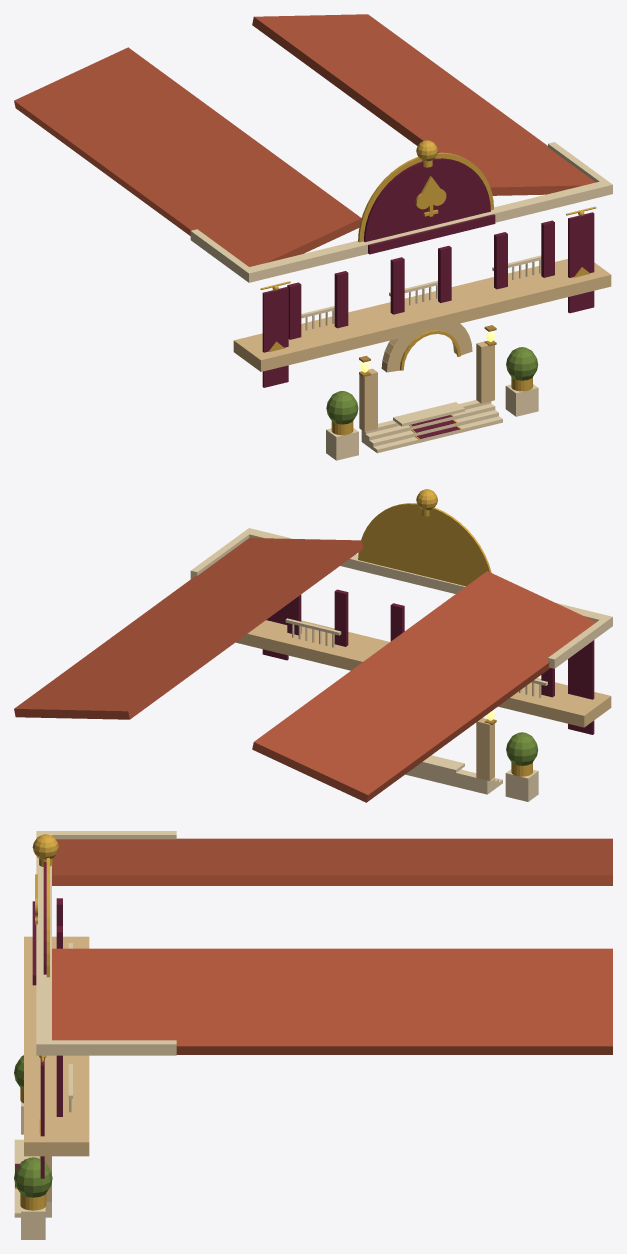
Rendered from nervix_openpoker_facade.glb.
3 views of the same model, one above another, from view 1: azimuth 30°, elevation 25°; view 2: azimuth 150°, elevation 25°; view 3: azimuth 270°, elevation 25° (orthographic). The views are drawn at different scales.
Parts seen in each view (by area): view 1: nervix_openpoker_facade__oc_terracotta, nervix_openpoker_facade__oc_limestone_honey, nervix_openpoker_facade__oc_limestone_pale, fac_pediment_plum, nervix_openpoker_facade__oc_gold, fac_banner, fac_banner.001, nervix_openpoker_facade__oc_olive_leaf, fac_sign_board, fac_curtain.002, fac_curtain.001, fac_curtain (+3 smaller); view 2: nervix_openpoker_facade__oc_terracotta, nervix_openpoker_facade__oc_gold, nervix_openpoker_facade__oc_limestone_honey, nervix_openpoker_facade__oc_limestone_pale, fac_banner, nervix_openpoker_facade__oc_olive_leaf, fac_curtain.004, fac_curtain.003, fac_curtain.005; view 3: nervix_openpoker_facade__oc_terracotta, nervix_openpoker_facade__oc_limestone_honey, nervix_openpoker_facade__oc_limestone_pale, nervix_openpoker_facade__oc_gold, nervix_openpoker_facade__oc_olive_leaf.
Boxes of the visible parts, <box> form: nervix_openpoker_facade__oc_terracotta: <box>14,14,595,266</box>; nervix_openpoker_facade__oc_limestone_honey: <box>233,259,611,431</box>; nervix_openpoker_facade__oc_limestone_pale: <box>190,142,612,460</box>; fac_pediment_plum: <box>364,158,490,242</box>; nervix_openpoker_facade__oc_gold: <box>260,140,596,435</box>; fac_banner: <box>262,287,288,387</box>; fac_banner.001: <box>568,212,594,313</box>; nervix_openpoker_facade__oc_olive_leaf: <box>326,347,538,424</box>; fac_sign_board: <box>368,214,495,254</box>; fac_curtain.002: <box>390,257,404,314</box>; fac_curtain.001: <box>334,271,348,328</box>; fac_curtain: <box>287,282,301,339</box>; nervix_openpoker_facade__oc_terracotta: <box>14,538,596,802</box>; nervix_openpoker_facade__oc_gold: <box>358,489,532,776</box>; nervix_openpoker_facade__oc_limestone_honey: <box>235,620,611,780</box>; nervix_openpoker_facade__oc_limestone_pale: <box>190,528,612,801</box>; fac_banner: <box>568,640,594,734</box>; nervix_openpoker_facade__oc_olive_leaf: <box>506,732,538,765</box>; fac_curtain.004: <box>334,589,348,646</box>; fac_curtain.003: <box>390,603,404,641</box>; fac_curtain.005: <box>287,594,301,635</box>; nervix_openpoker_facade__oc_terracotta: <box>52,838,612,1054</box>; nervix_openpoker_facade__oc_limestone_honey: <box>24,936,89,1201</box>; nervix_openpoker_facade__oc_limestone_pale: <box>14,831,176,1239</box>; nervix_openpoker_facade__oc_gold: <box>20,834,58,1210</box>; nervix_openpoker_facade__oc_olive_leaf: <box>14,1055,52,1197</box>.
Bounding box in the file's own units: 16.2 × 12.22 × 19.22.
